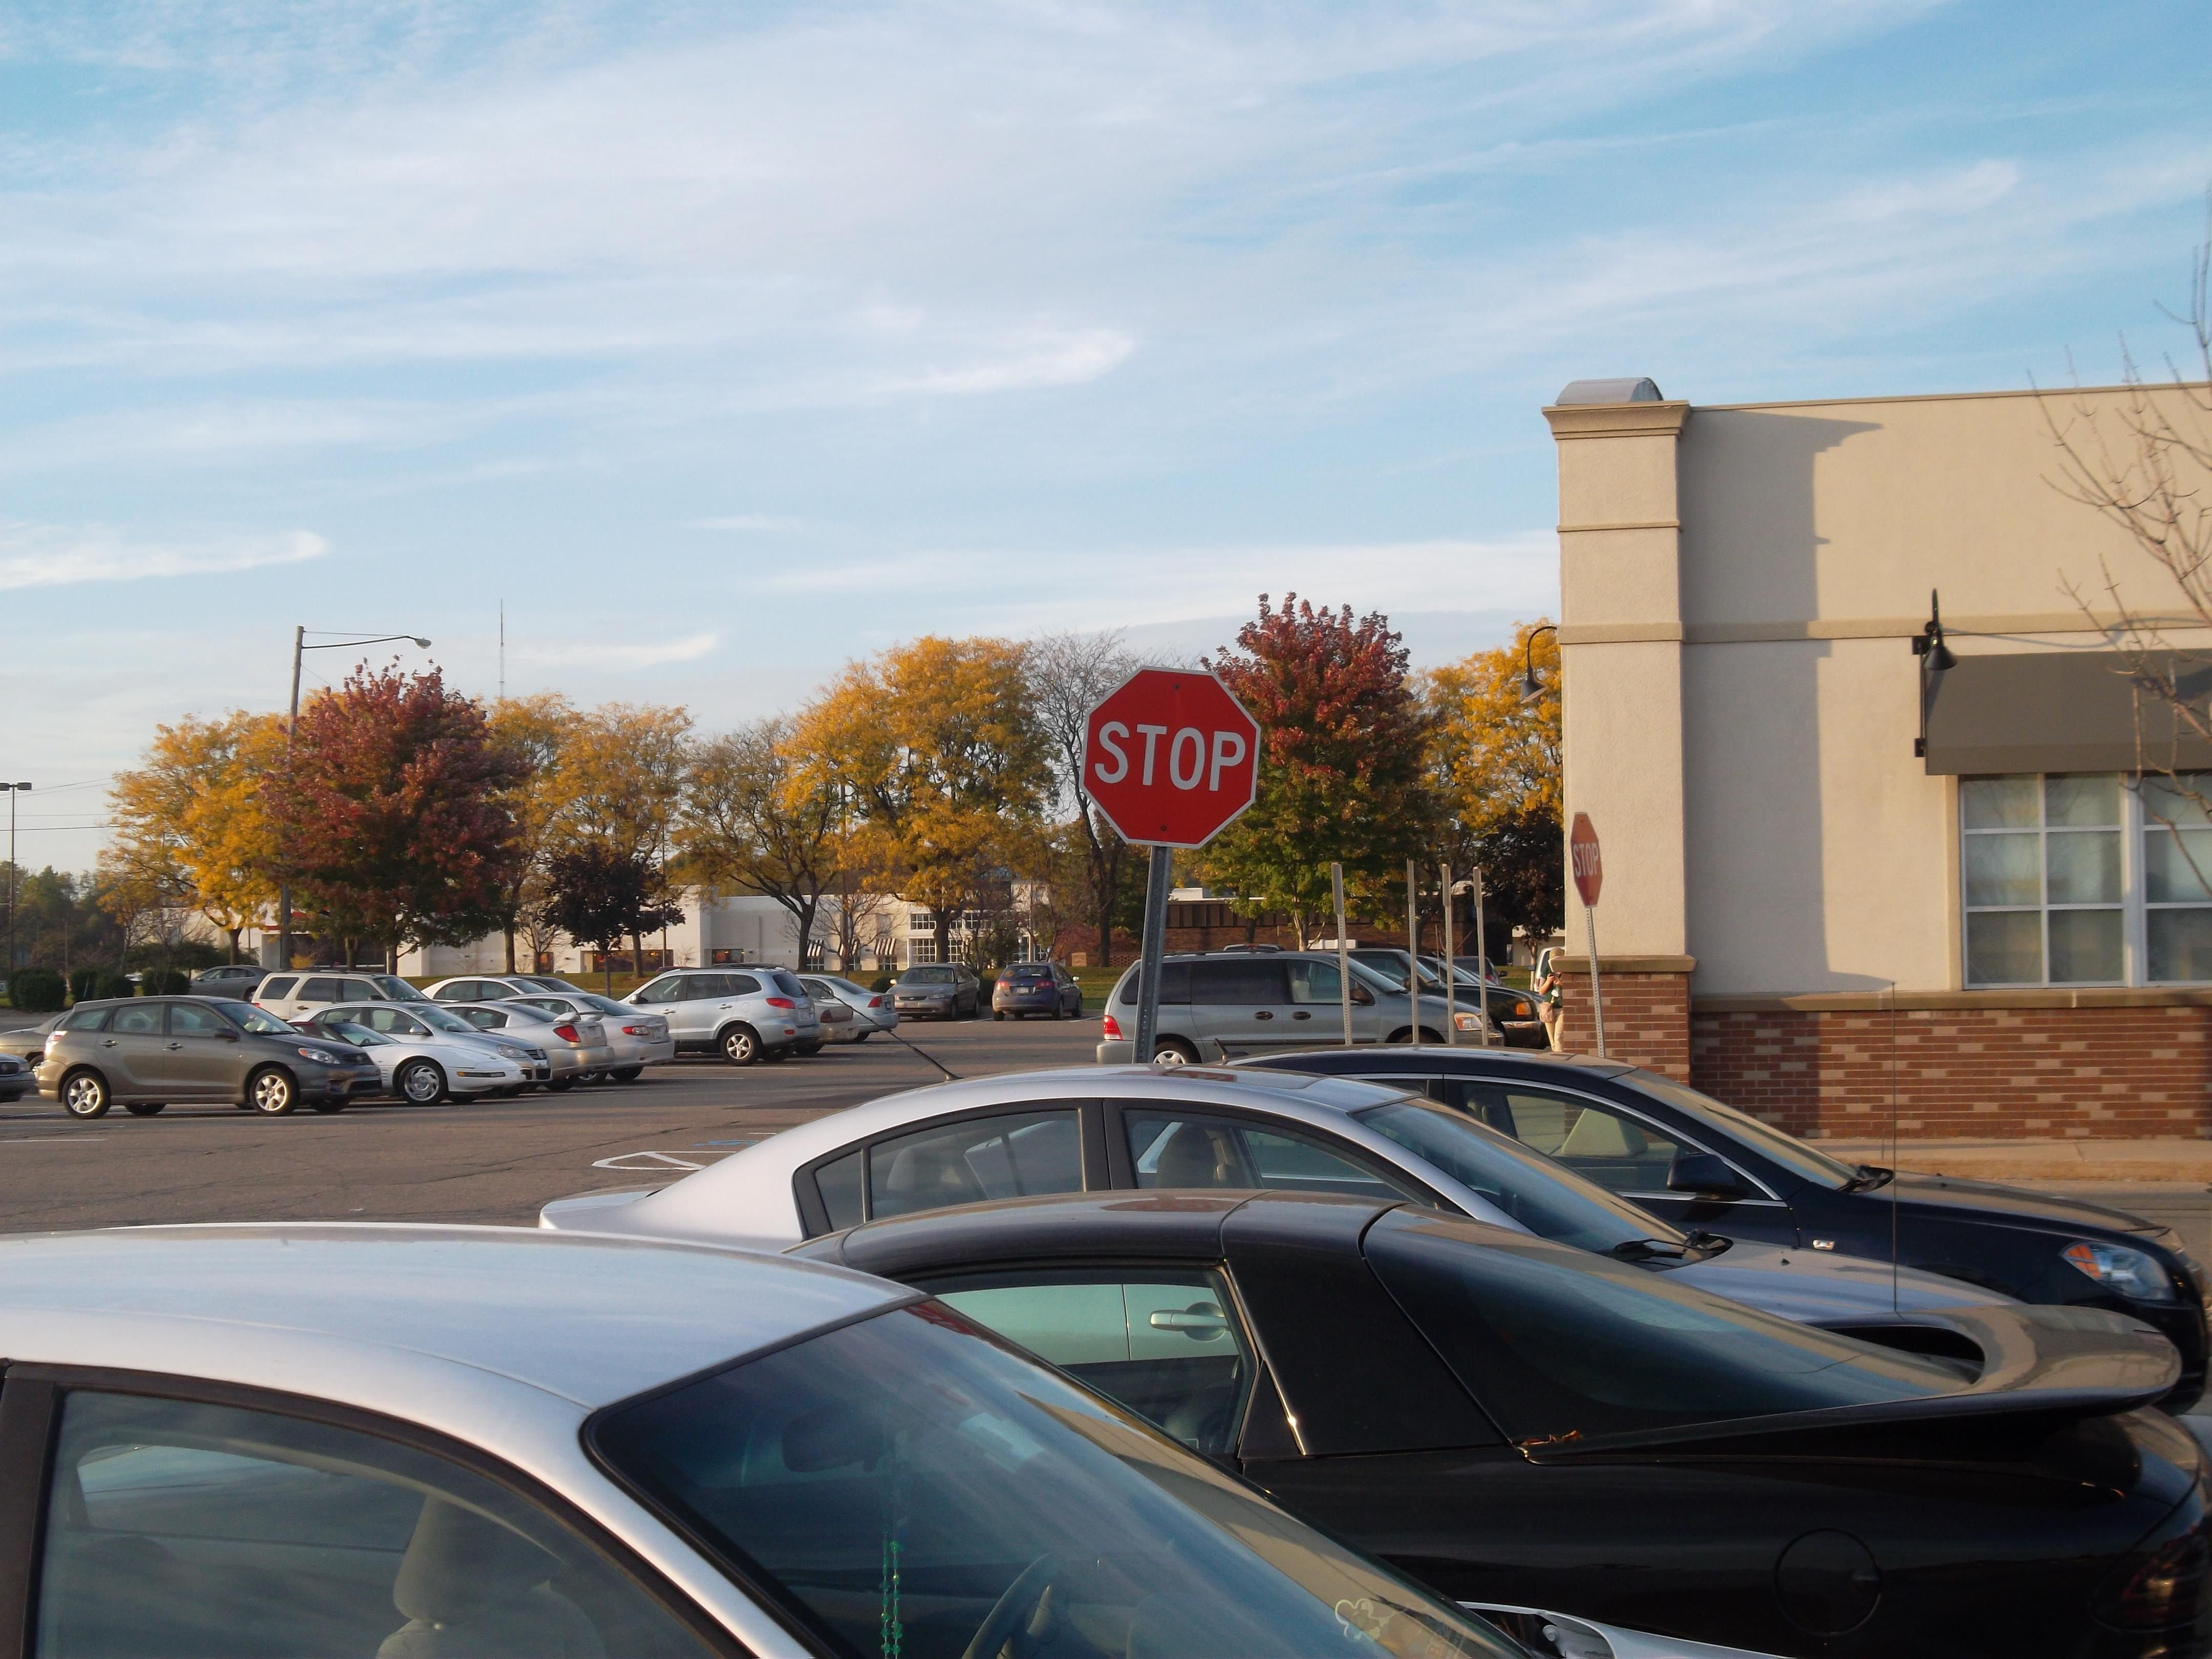stop: (1075, 650, 1268, 856), (1562, 814, 1623, 913)
